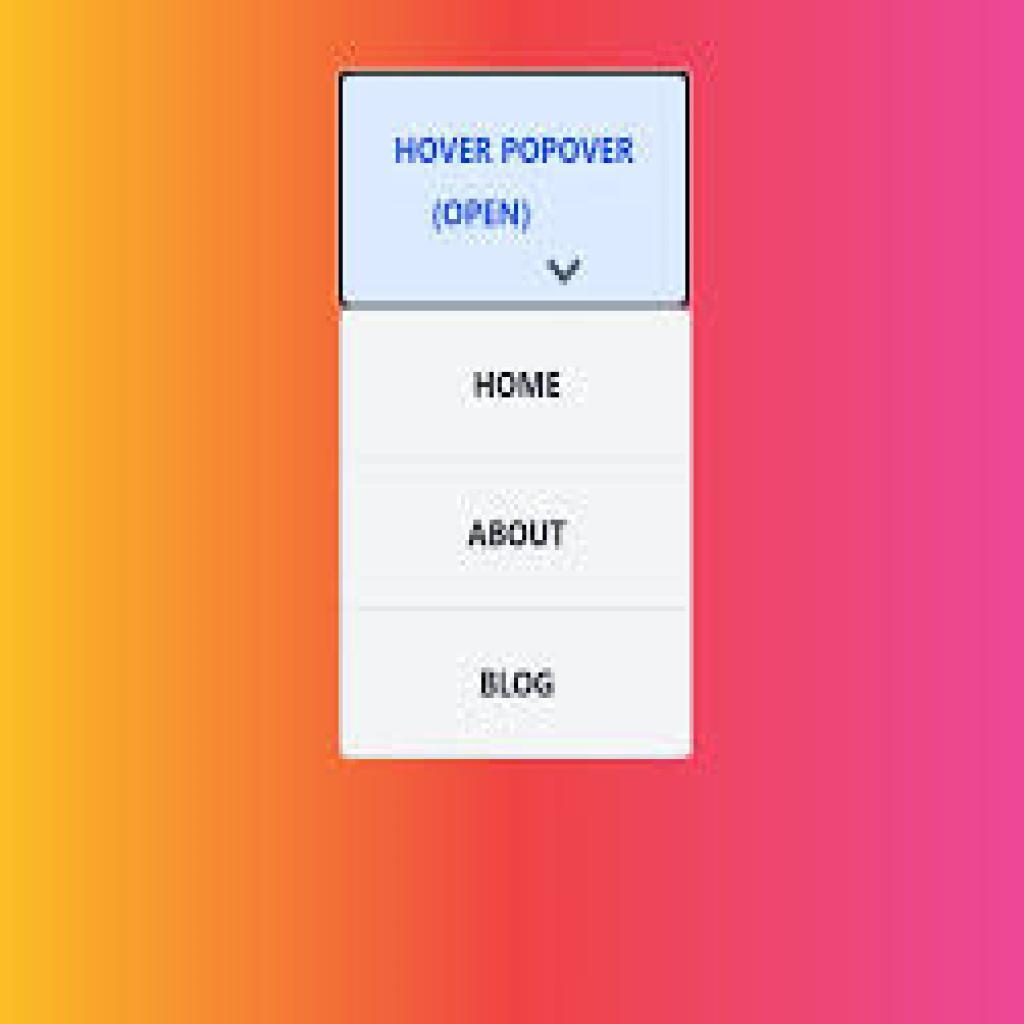dropdown: (339, 73, 693, 312)
